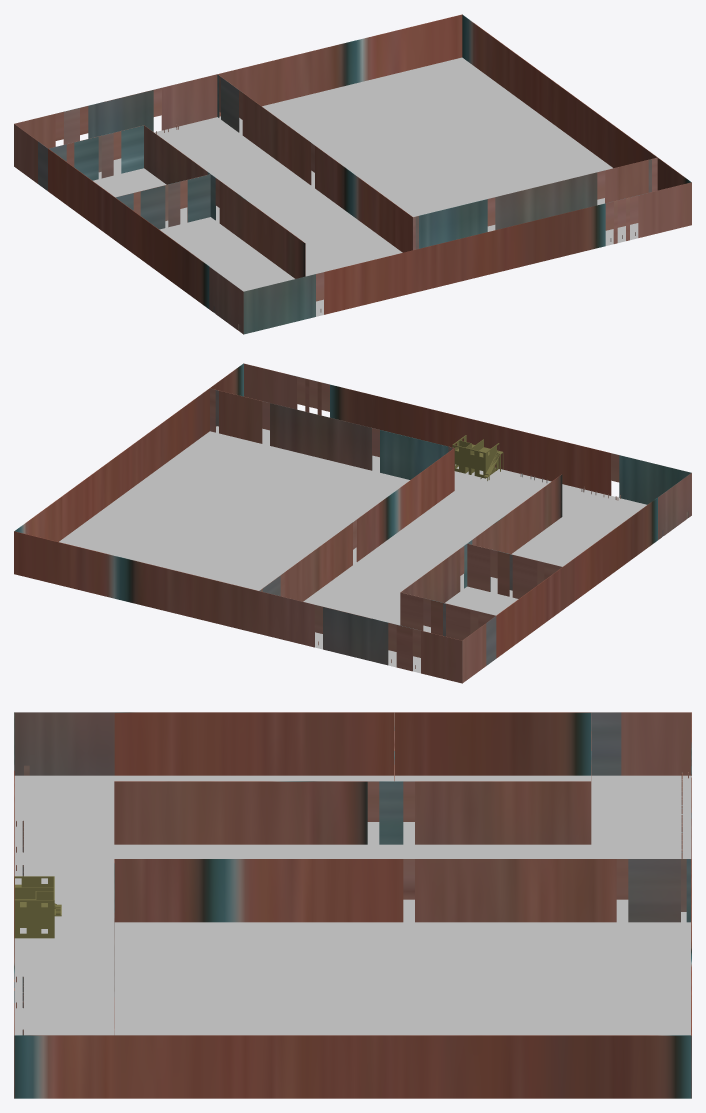
The model's file is Warehouse.obj.
The picture shows the model from 3 angles, top to bottom: view 1: azimuth 30°, elevation 25°; view 2: azimuth 150°, elevation 25°; view 3: azimuth 270°, elevation 25°; orthographic projection. The views are drawn at different scales.
Visible parts, largest first — view 1: Mesh; view 2: Mesh; view 3: Mesh.
Boxes of the visible parts, x1,y1,x2,y2 form: Mesh: (14, 14, 691, 334); Mesh: (14, 363, 691, 683); Mesh: (14, 712, 691, 1098).
Size of the model in its own units: 54.92 by 5 by 48.7.
